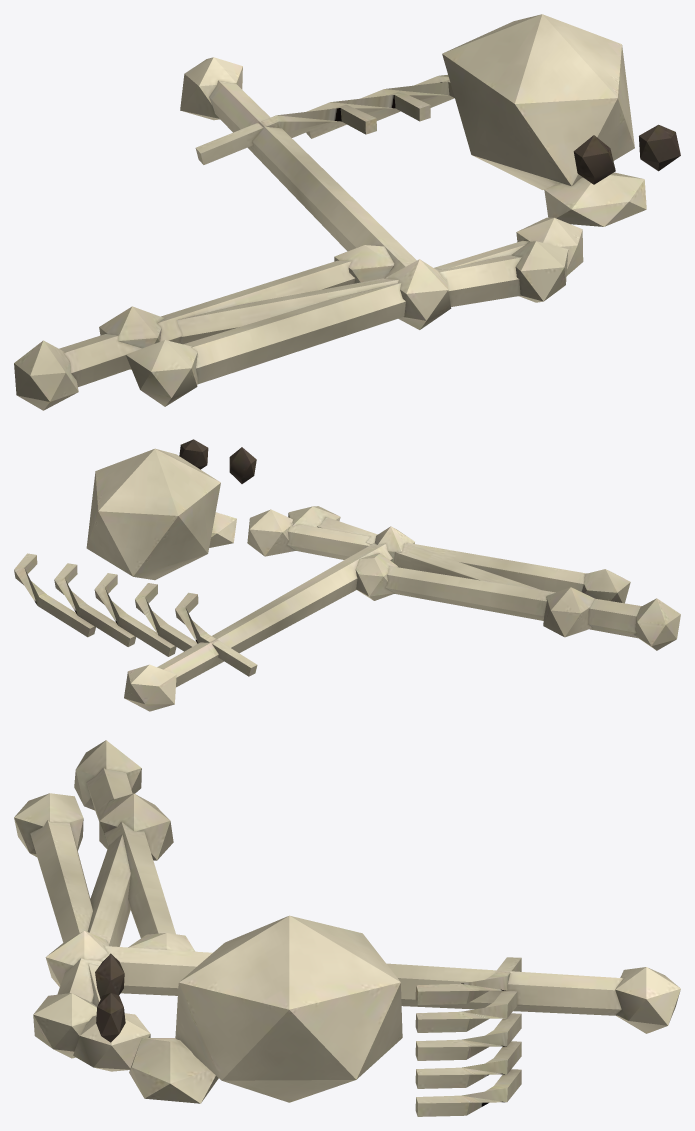
The model's file is bg_desert_bones_1_lod0.glb.
3 renders of one model, top to bottom at view 1: azimuth 30°, elevation 25°; view 2: azimuth 150°, elevation 25°; view 3: azimuth 270°, elevation 25°, orthographic. The views are drawn at different scales.
Parts seen in each view (by area): view 1: body; view 2: body; view 3: body.
Part boxes in pixels (<box>): body: <box>14,14,680,410</box>; body: <box>14,439,680,711</box>; body: <box>14,740,680,1116</box>.
Bounding box in the file's own units: 0.6706 × 0.1705 × 0.5042.
Materials: 1 (1 with a texture image).
